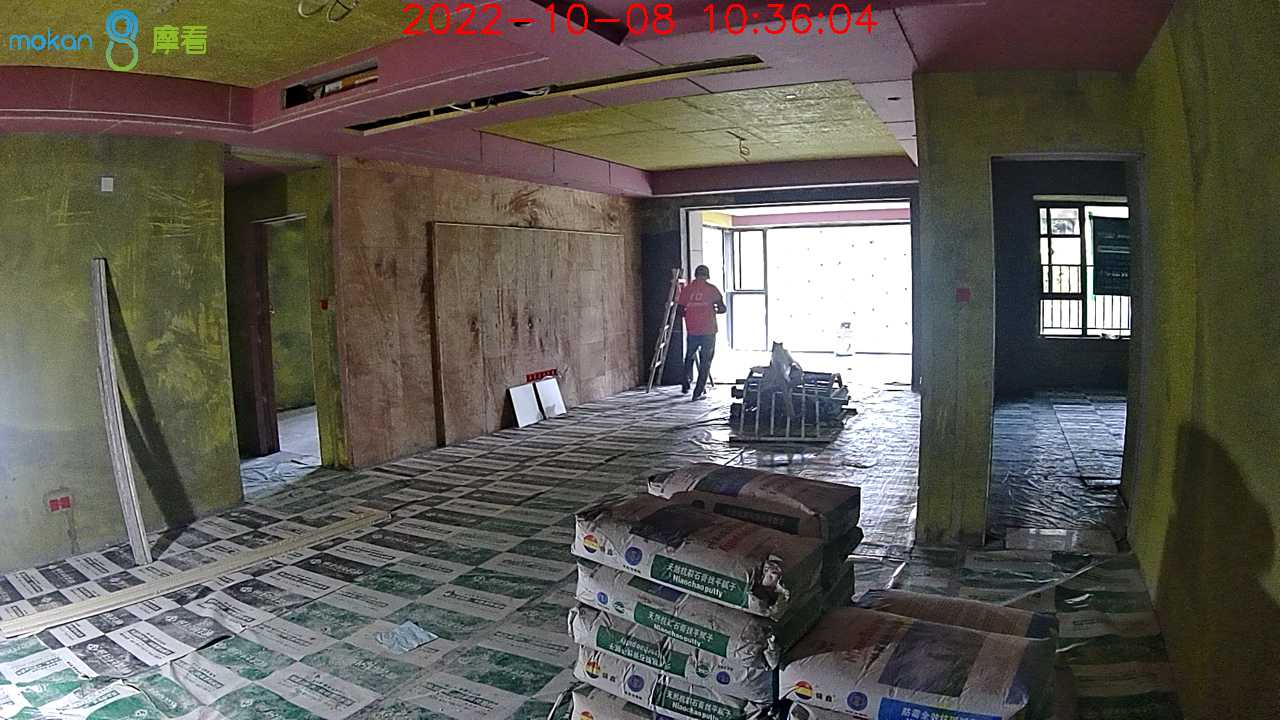people: (672, 265, 726, 403)
window: (736, 230, 907, 348), (1037, 199, 1129, 337)
